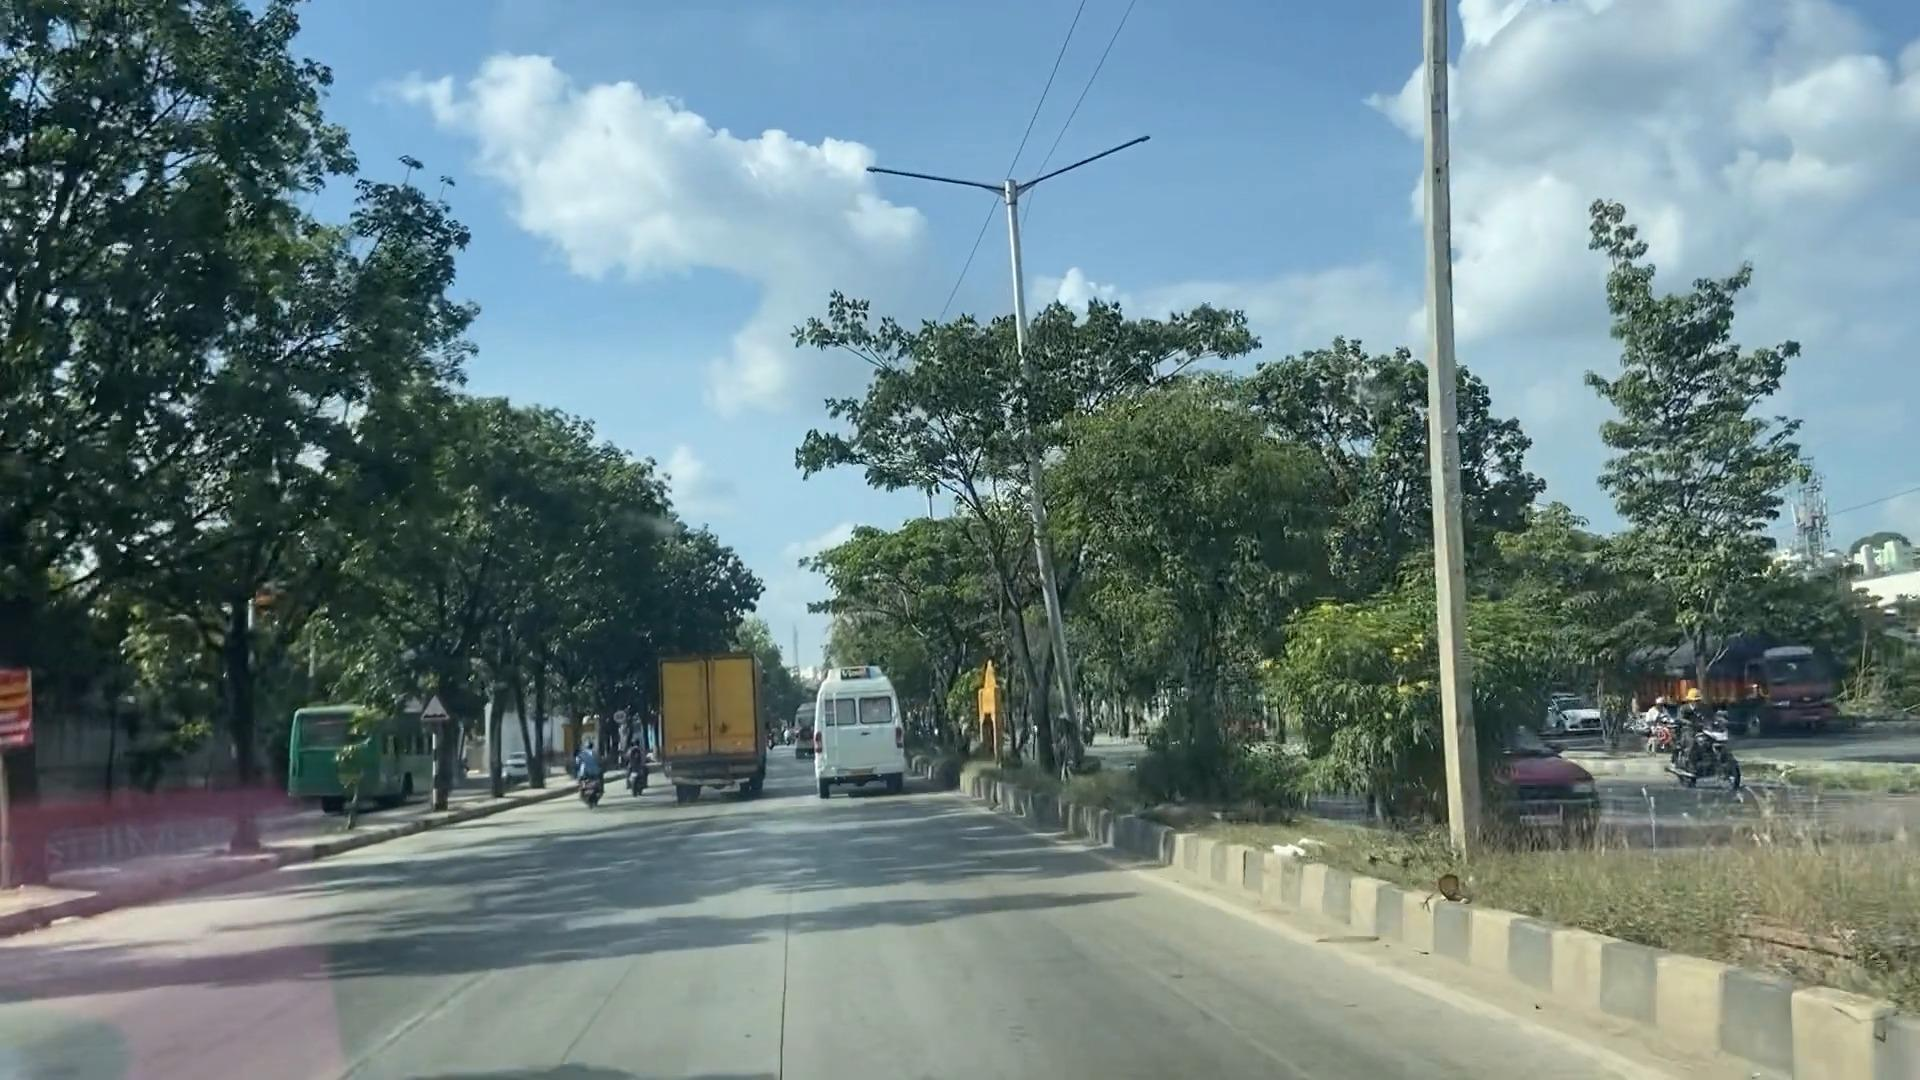HMV: (663, 654, 758, 789), (825, 650, 894, 791)
